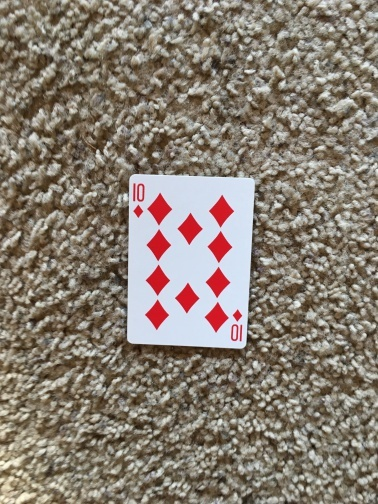ten: (128, 177, 250, 345)
